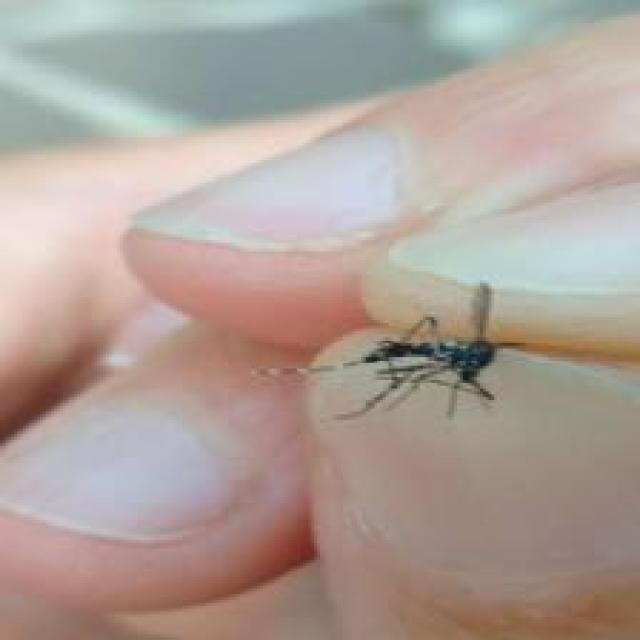Aedes albopictus: (251, 280, 526, 423)
